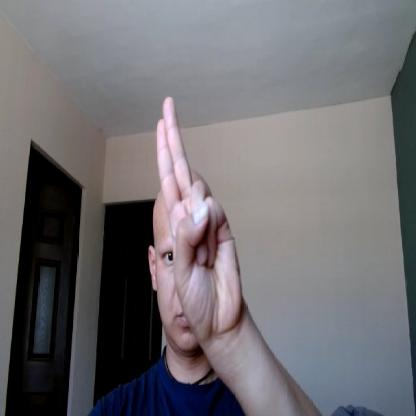U: (156, 95, 242, 332)
